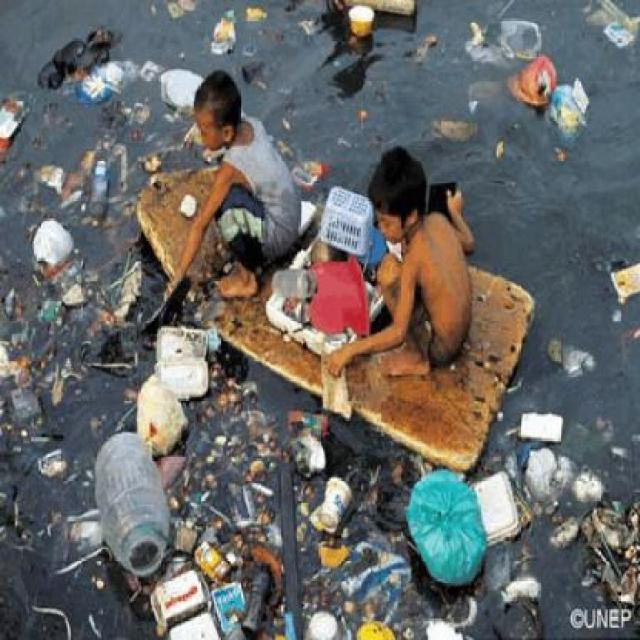garbage: (103, 302, 218, 590), (396, 459, 527, 584), (483, 12, 598, 150), (142, 571, 260, 638)
